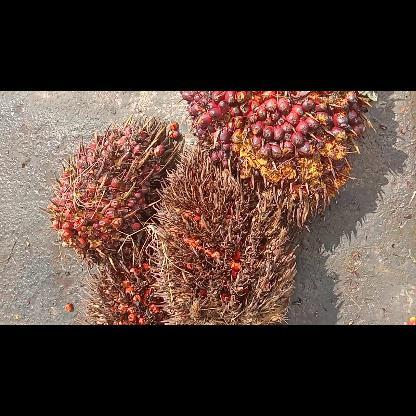TBS masak: (179, 91, 375, 230), (46, 112, 178, 270)
Terlalu masak: (146, 144, 298, 324), (74, 260, 168, 324)
